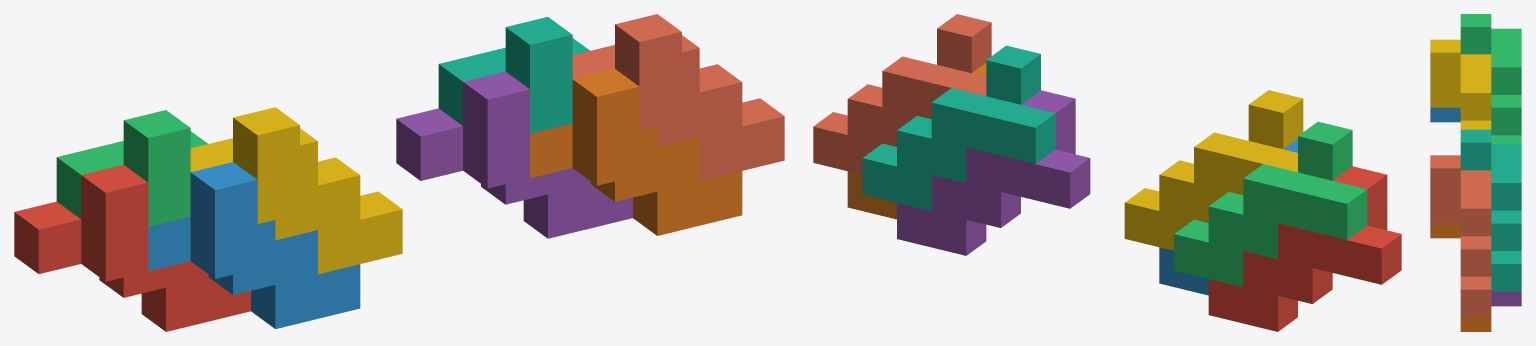
File: tiling.obj
3 views of the same model, side by side, from view 1: azimuth 30°, elevation 25°; view 2: azimuth 150°, elevation 25°; view 3: azimuth 270°, elevation 25° (orthographic). The views are drawn at different scales.
Parts seen in each view (by area): view 1: copy_1_domain_6, copy_1_domain_2, copy_1_domain_1, copy_1_domain_5, copy_1_domain_8, copy_1_domain_4, copy_1_domain_3, copy_1_domain_7; view 2: copy_1_domain_7, copy_1_domain_3, copy_1_domain_5, copy_1_domain_1, copy_1_domain_4, copy_1_domain_8, copy_1_domain_6, copy_1_domain_2; view 3: copy_1_domain_8, copy_1_domain_7, copy_1_domain_3, copy_1_domain_4, copy_1_domain_6, copy_1_domain_2, copy_1_domain_5.
Boxes of the visible parts, x1,y1,x2,y2 form: copy_1_domain_6: (530, 69, 742, 235); copy_1_domain_2: (148, 162, 360, 328); copy_1_domain_1: (14, 165, 250, 331); copy_1_domain_5: (396, 71, 632, 238); copy_1_domain_8: (572, 14, 784, 180); copy_1_domain_4: (190, 107, 402, 274); copy_1_domain_3: (56, 110, 207, 226); copy_1_domain_7: (438, 17, 589, 133); copy_1_domain_7: (862, 45, 1055, 210); copy_1_domain_3: (1174, 121, 1367, 286); copy_1_domain_5: (897, 90, 1090, 255); copy_1_domain_1: (1208, 166, 1401, 331); copy_1_domain_4: (1124, 90, 1303, 250); copy_1_domain_8: (813, 14, 991, 174); copy_1_domain_6: (847, 63, 986, 219); copy_1_domain_2: (1159, 139, 1297, 295); copy_1_domain_8: (1430, 155, 1491, 317); copy_1_domain_7: (1460, 129, 1521, 291); copy_1_domain_3: (1460, 14, 1521, 144); copy_1_domain_4: (1430, 39, 1491, 129); copy_1_domain_6: (1430, 223, 1491, 331); copy_1_domain_2: (1430, 107, 1460, 122); copy_1_domain_5: (1491, 291, 1521, 306).
Size of the model in its own units: 17 by 5 by 3.
